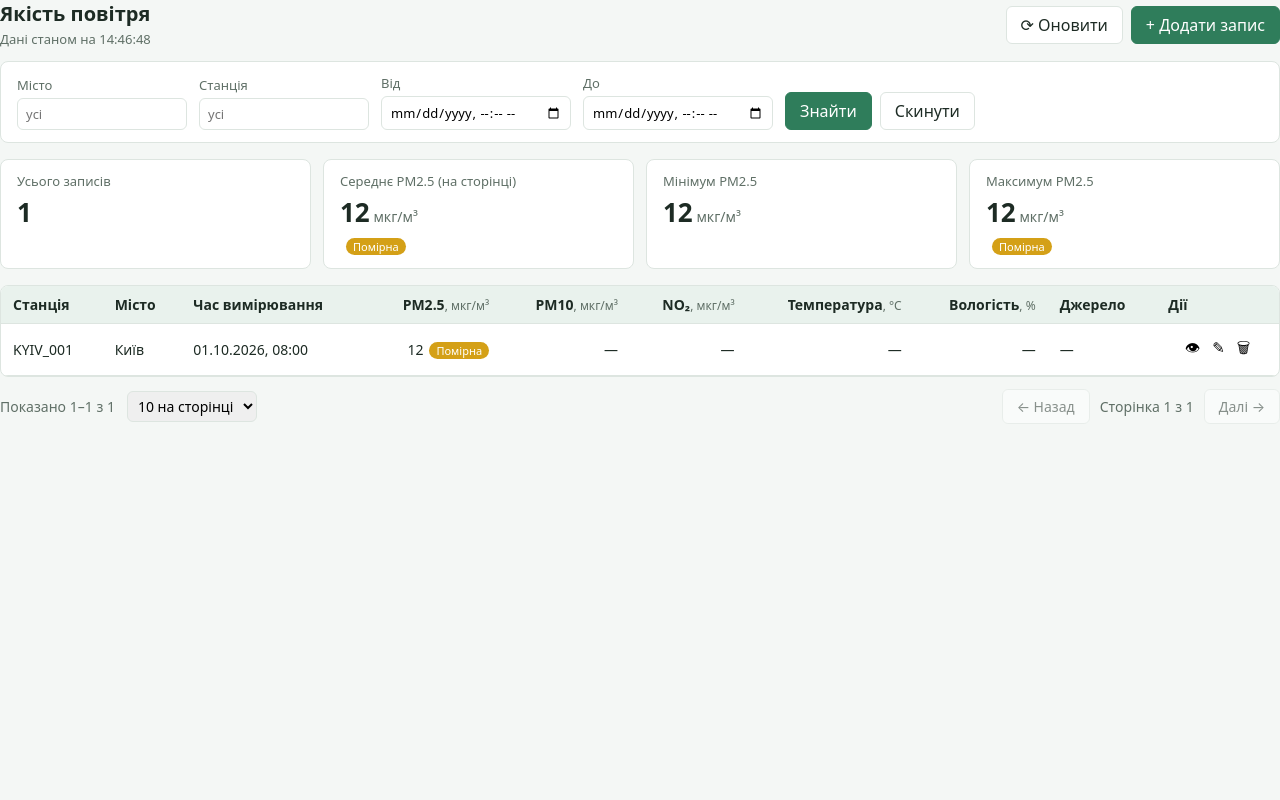
ResourcePage › видалення запису після підтвердження
Check: the text "KYIV_001" is shown, box [1,324,103,376]
Click the button titled "Видалити" at (1244, 350), box [1231,333,1256,366]
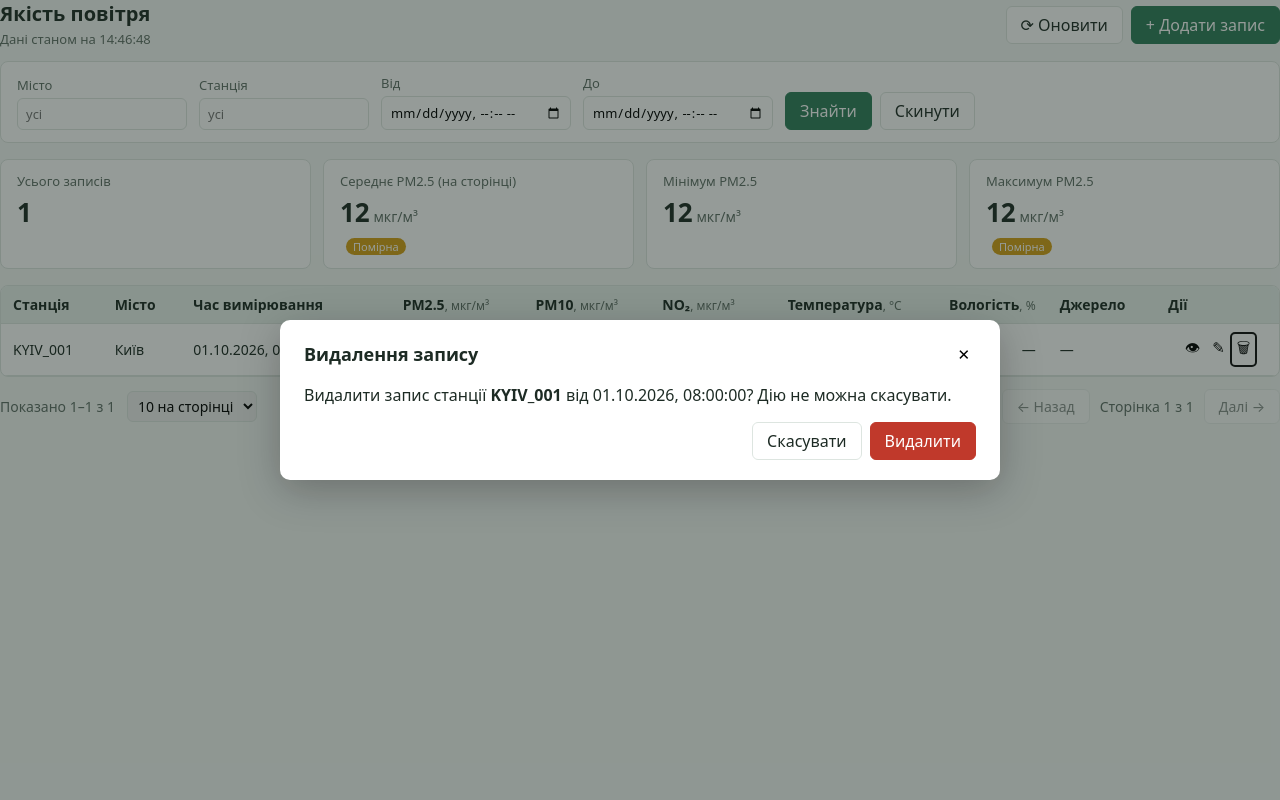
Click the button "Видалити" at (923, 441), box [870,422,976,460]
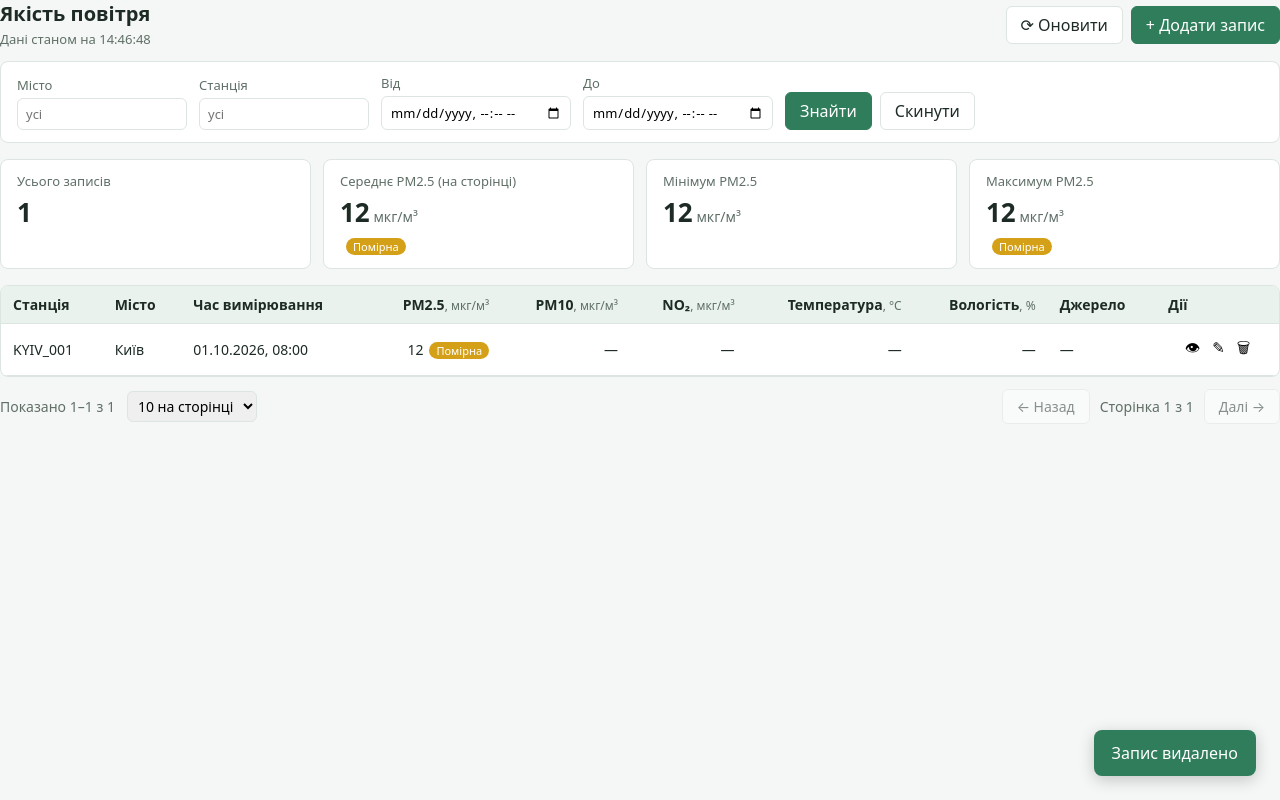
Check: the text "Запис видалено" is shown, box [1094,730,1256,776]
